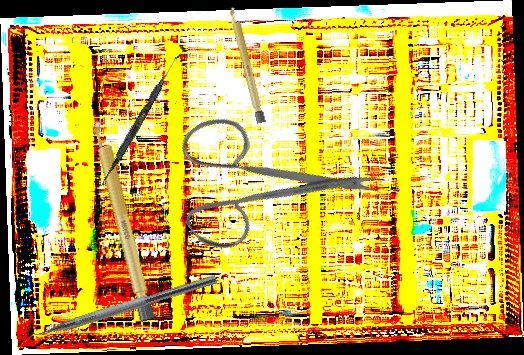Chopper: (16, 261, 218, 347)
Iris Scissors: (142, 56, 387, 298)
Scalpel Handle: (88, 113, 157, 325), (228, 5, 266, 124)
Spatula Surgical: (98, 49, 183, 190)
